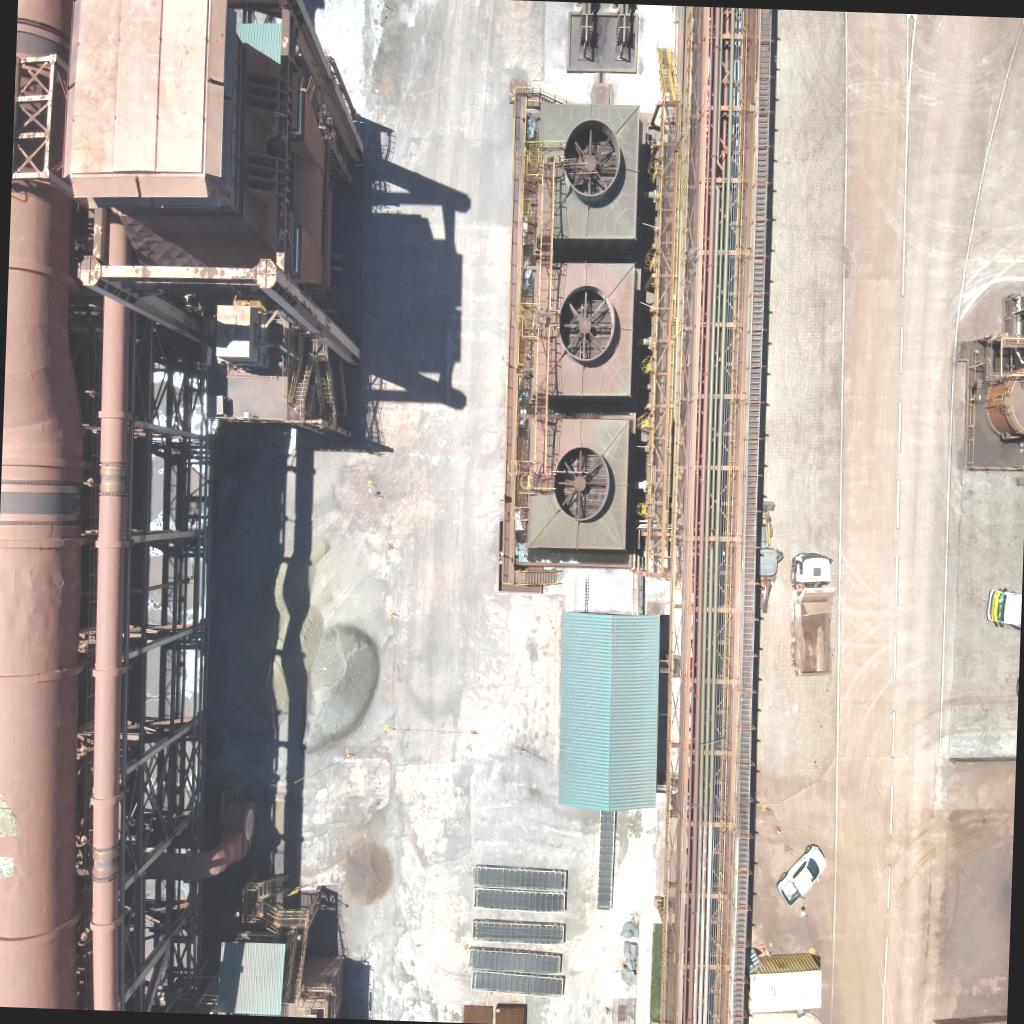Failures: (0, 792, 22, 838), (0, 855, 15, 897)
